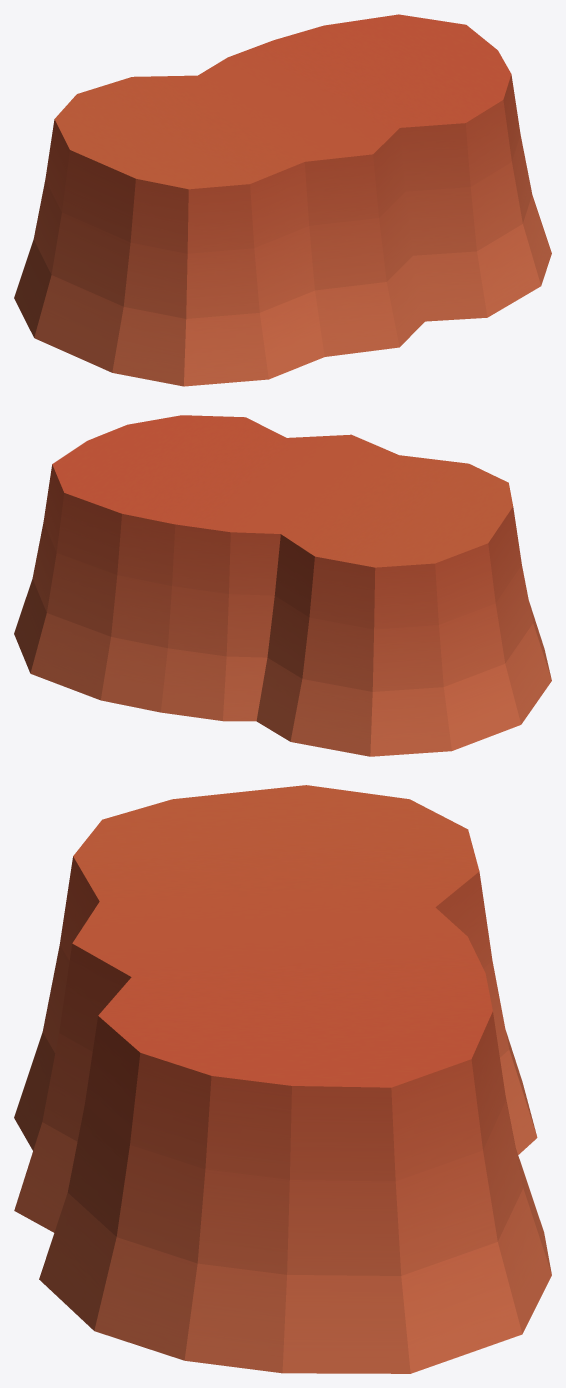
Rendered from Red_cliff6.fbx.
3 views of the same model, one above another, from view 1: azimuth 30°, elevation 25°; view 2: azimuth 150°, elevation 25°; view 3: azimuth 270°, elevation 25° (orthographic). The views are drawn at different scales.
Parts seen in each view (by area): view 1: cliff6; view 2: cliff6; view 3: cliff6.
Part boxes in pixels (x1,y1,x2,y2): cliff6: [14, 14, 551, 386]; cliff6: [14, 415, 551, 756]; cliff6: [14, 785, 551, 1373].
Size of the model in its own units: 8.65 by 3.02 by 5.6.
